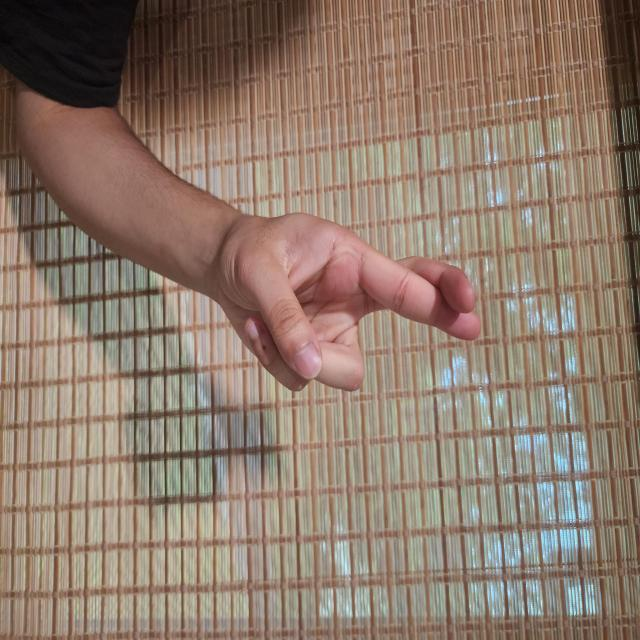R: (311, 205, 458, 574)
